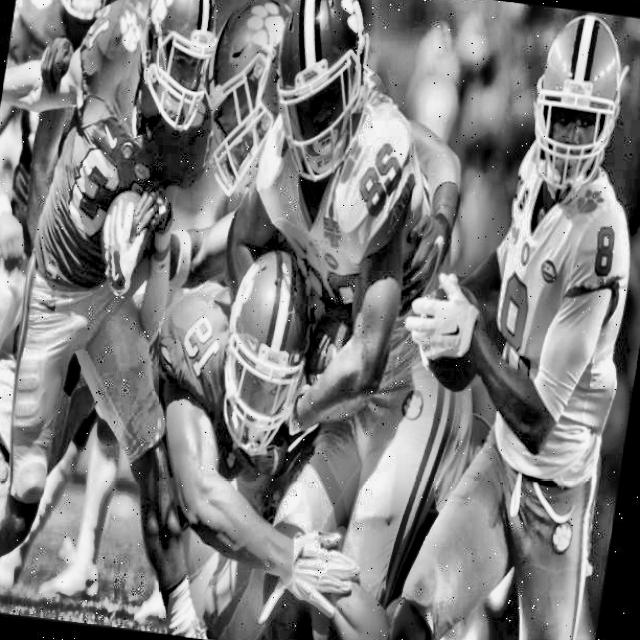Helmet: (212, 242, 331, 468), (520, 6, 638, 210), (188, 0, 301, 207), (263, 0, 383, 191), (128, 0, 231, 142)
